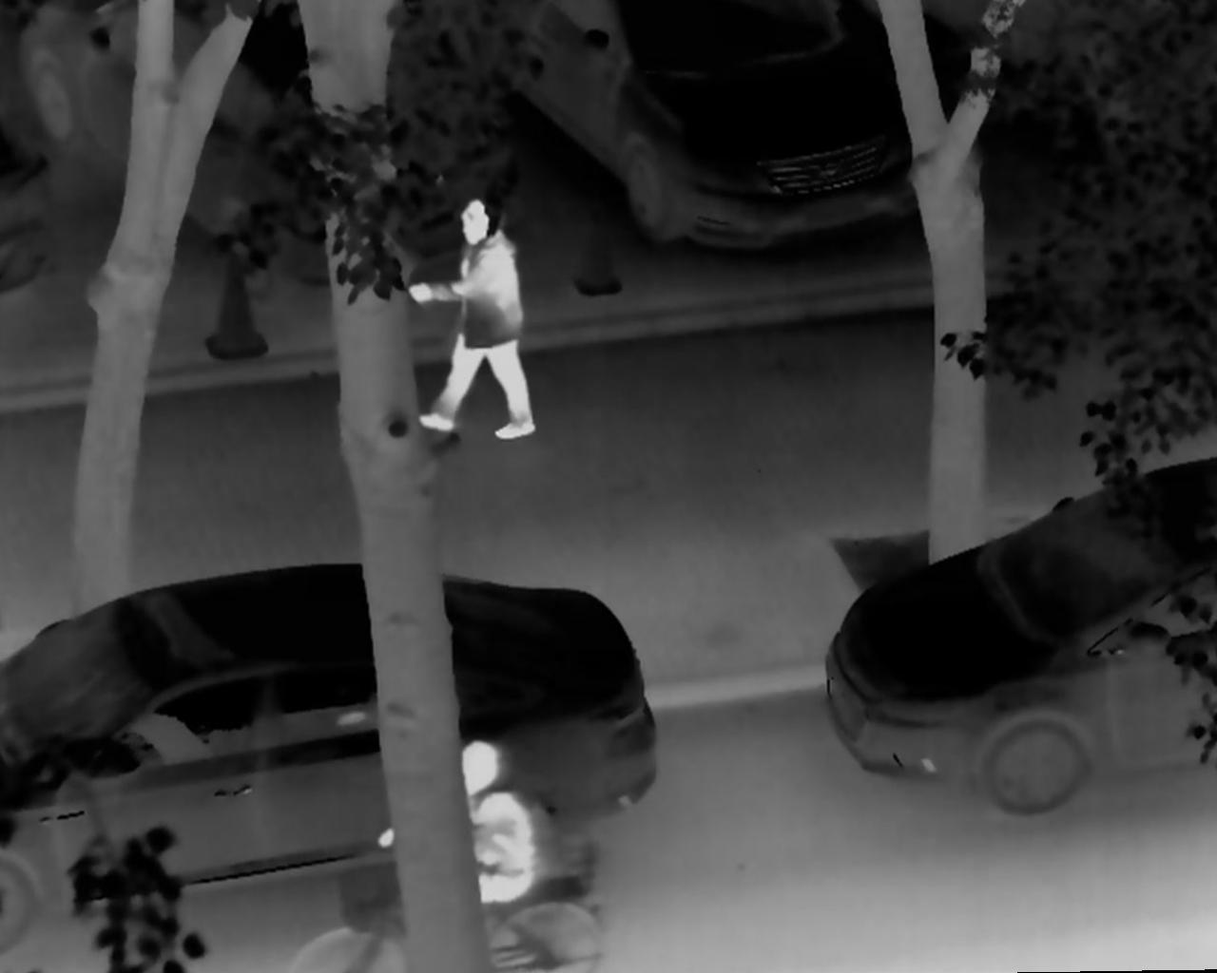person: (400, 179, 546, 448), (380, 738, 538, 916)
